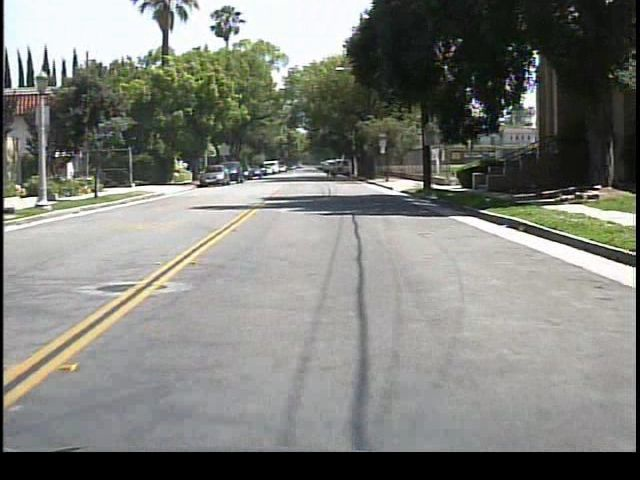person: (319, 157, 334, 183)
